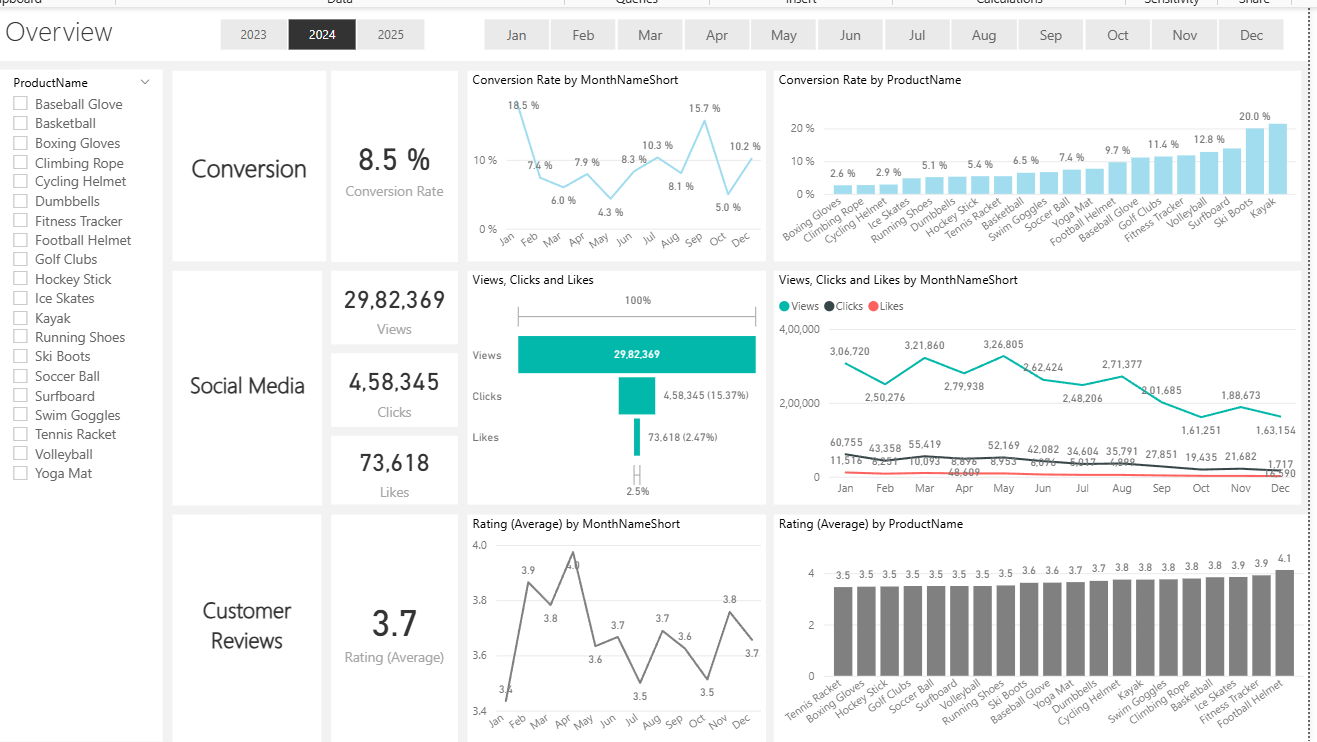

This screenshot's page, from the dashboard's own definition file:
{"tool":"powerbi","page":{"name":"Overview","canvas":[1280,720],"ordinal":0},"visuals":[{"type":"textbox","box":[0,0,1280,52.6],"z":0},{"type":"slicer","fields":{"Values":["dim_products.ProductName"]},"box":[0,61.6,159.5,658.5],"z":1000},{"type":"card","fields":{"Values":["_Calculations.Conversion Rate"]},"box":[324.1,61.9,123.9,186.8],"z":2000},{"type":"card","fields":{"Values":["_Calculations.Rating (Average)"]},"box":[324.1,496.5,123.9,224],"z":3000},{"type":"lineChart","fields":{"Y":["_Calculations.Conversion Rate"],"Category":["Calendar.MonthNameShort"]},"box":[457.1,61.9,292.3,186.7],"z":4000},{"type":"columnChart","fields":{"Category":["dim_products.ProductName"],"Y":["_Calculations.Conversion Rate"]},"box":[756.7,61.9,516.3,186.7],"z":5000},{"type":"slicer","fields":{"Values":["Calendar.Year"]},"box":[189.4,4.6,249.5,43.7],"z":6000},{"type":"slicer","fields":{"Values":["Calendar.MonthNameShort"]},"box":[448,4.6,832.3,43.7],"z":7000},{"type":"lineChart","fields":{"Y":["_Calculations.Views","_Calculations.Clicks","_Calculations.Likes"],"Category":["Calendar.MonthNameShort"]},"box":[756.6,258.1,516.1,229.2],"z":8000},{"type":"lineChart","fields":{"Category":["Calendar.MonthNameShort"],"Y":["_Calculations.Rating (Average)"]},"box":[457.1,496.3,292.3,224],"z":9000},{"type":"columnChart","fields":{"Category":["dim_products.ProductName"],"Y":["_Calculations.Rating (Average)"]},"box":[756.6,496.5,523.4,224],"z":10000},{"type":"funnel","fields":{"Y":["_Calculations.Views","_Calculations.Clicks","_Calculations.Likes"]},"box":[457.3,258.1,292.1,229.2],"z":11000},{"type":"card","fields":{"Values":["_Calculations.Views"]},"box":[324.2,257.7,123.8,71.9],"z":12000},{"type":"textbox","box":[168.5,61.9,150.3,186.7],"z":13000},{"type":"textbox","box":[168.5,257.7,146.6,229.5],"z":14000},{"type":"textbox","box":[168.5,496.3,145.7,224],"z":15000},{"type":"card","fields":{"Values":["_Calculations.Clicks"]},"box":[324.2,338.8,123.8,71.9],"z":16000},{"type":"card","fields":{"Values":["_Calculations.Likes"]},"box":[324.2,419.8,123.8,67.4],"z":17000}]}

Visuals, with their boxes on the page's 1280x720 design canvas (x1, y1, x2, y2). These are canvas units, not pixel positions in the 1317x742 screenshot, which may show the page scaled, cropped or inside an application window:
textbox: pyautogui.locateOnScreen(0, 0, 1280, 53)
slicer - dim_products.ProductName: pyautogui.locateOnScreen(0, 62, 160, 720)
card - _Calculations.Conversion Rate: pyautogui.locateOnScreen(324, 62, 448, 249)
card - _Calculations.Rating (Average): pyautogui.locateOnScreen(324, 496, 448, 720)
lineChart - _Calculations.Conversion Rate x Calendar.MonthNameShort: pyautogui.locateOnScreen(457, 62, 749, 249)
columnChart - dim_products.ProductName x _Calculations.Conversion Rate: pyautogui.locateOnScreen(757, 62, 1273, 249)
slicer - Calendar.Year: pyautogui.locateOnScreen(189, 5, 439, 48)
slicer - Calendar.MonthNameShort: pyautogui.locateOnScreen(448, 5, 1280, 48)
lineChart - _Calculations.Views x _Calculations.Clicks: pyautogui.locateOnScreen(757, 258, 1273, 487)
lineChart - Calendar.MonthNameShort x _Calculations.Rating (Average): pyautogui.locateOnScreen(457, 496, 749, 720)
columnChart - dim_products.ProductName x _Calculations.Rating (Average): pyautogui.locateOnScreen(757, 496, 1280, 720)
funnel - _Calculations.Views x _Calculations.Clicks: pyautogui.locateOnScreen(457, 258, 749, 487)
card - _Calculations.Views: pyautogui.locateOnScreen(324, 258, 448, 330)
textbox: pyautogui.locateOnScreen(168, 62, 319, 249)
textbox: pyautogui.locateOnScreen(168, 258, 315, 487)
textbox: pyautogui.locateOnScreen(168, 496, 314, 720)
card - _Calculations.Clicks: pyautogui.locateOnScreen(324, 339, 448, 411)
card - _Calculations.Likes: pyautogui.locateOnScreen(324, 420, 448, 487)
